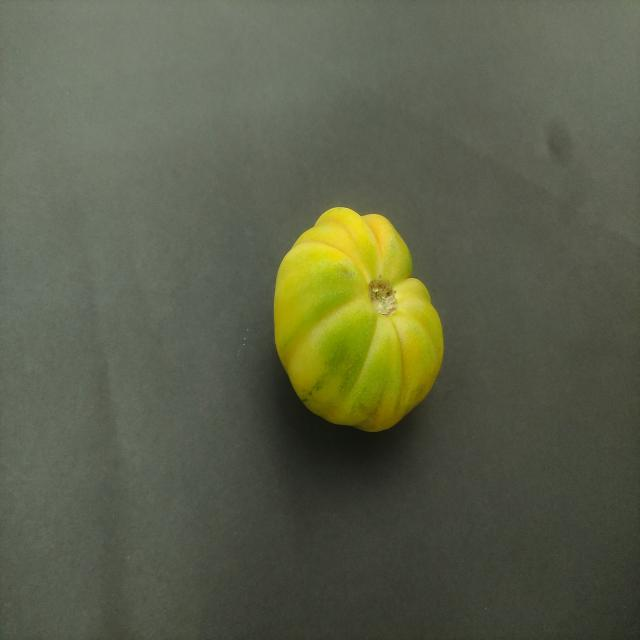yesil: (259, 193, 443, 437)
